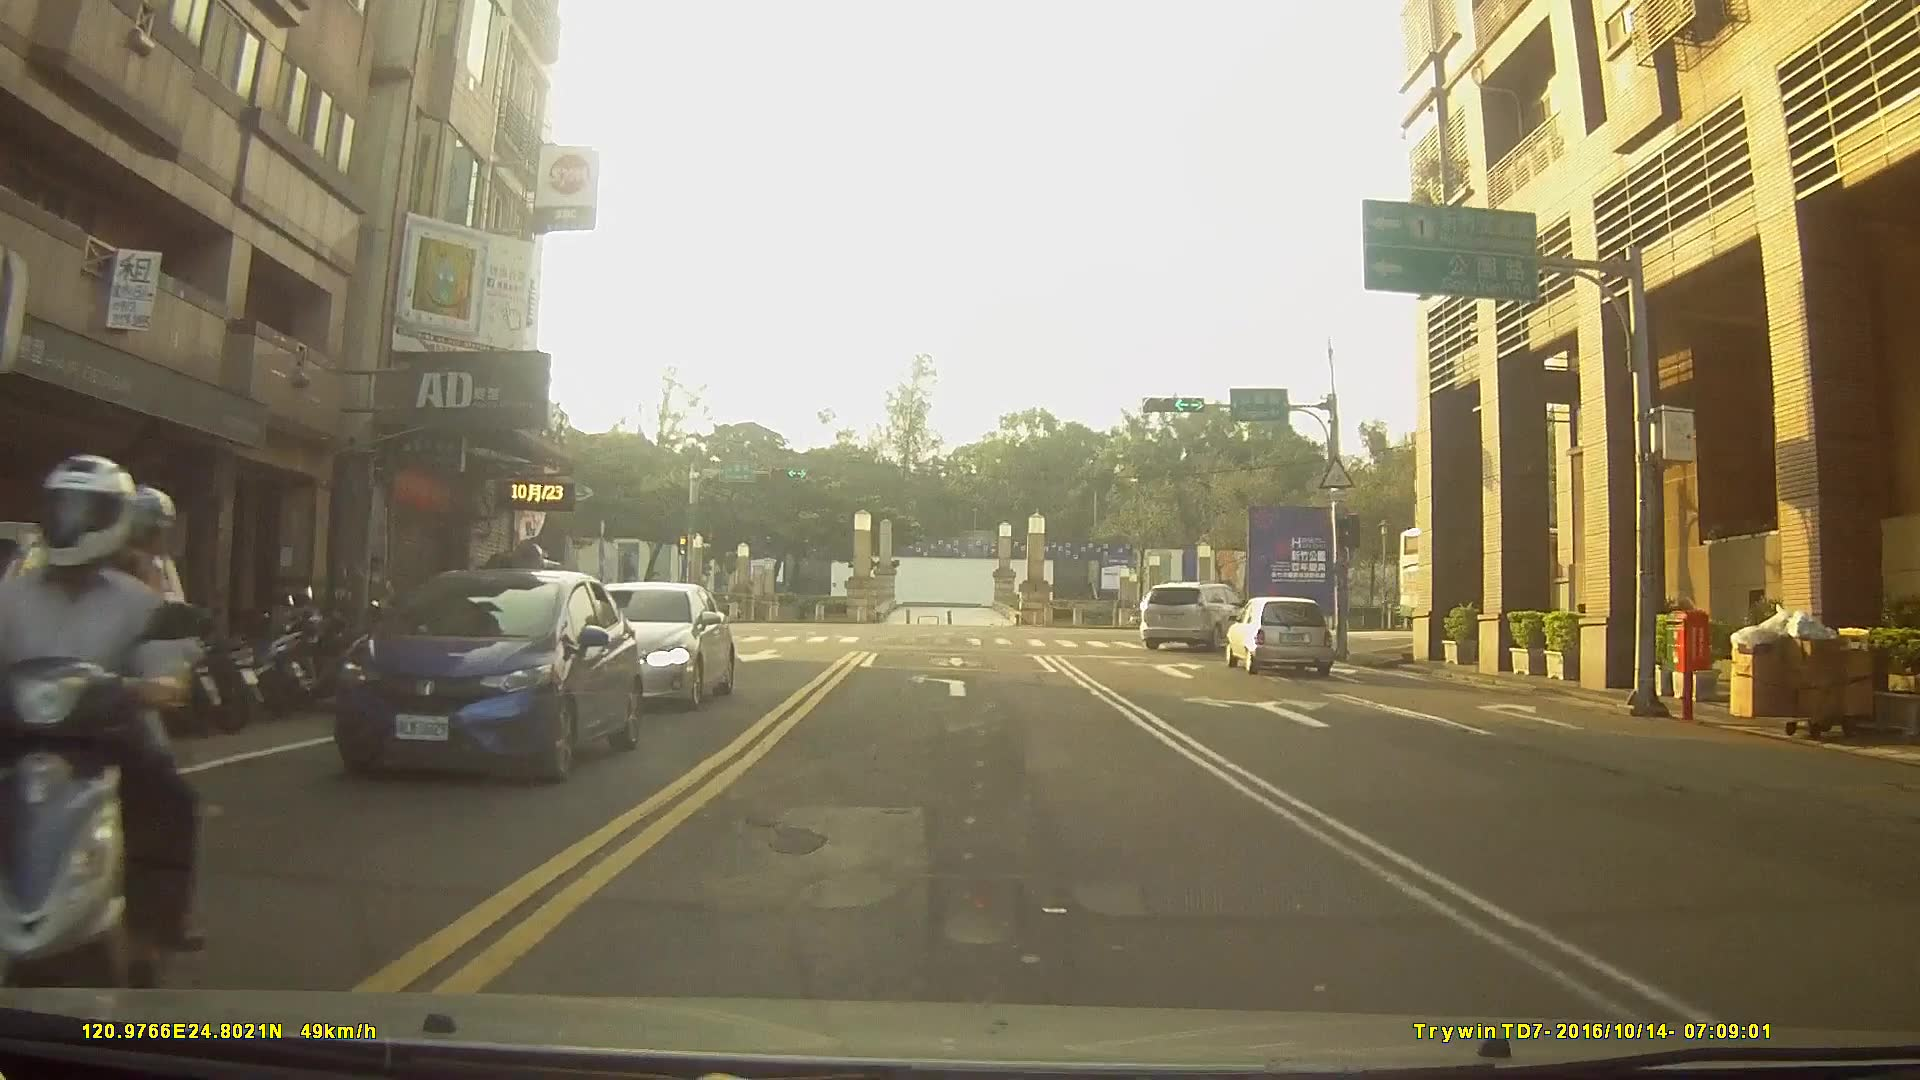rider: (1, 450, 220, 1060)
vehicle: (326, 565, 640, 785), (0, 521, 189, 750), (550, 579, 731, 710), (1223, 594, 1330, 672), (1141, 579, 1252, 647)
